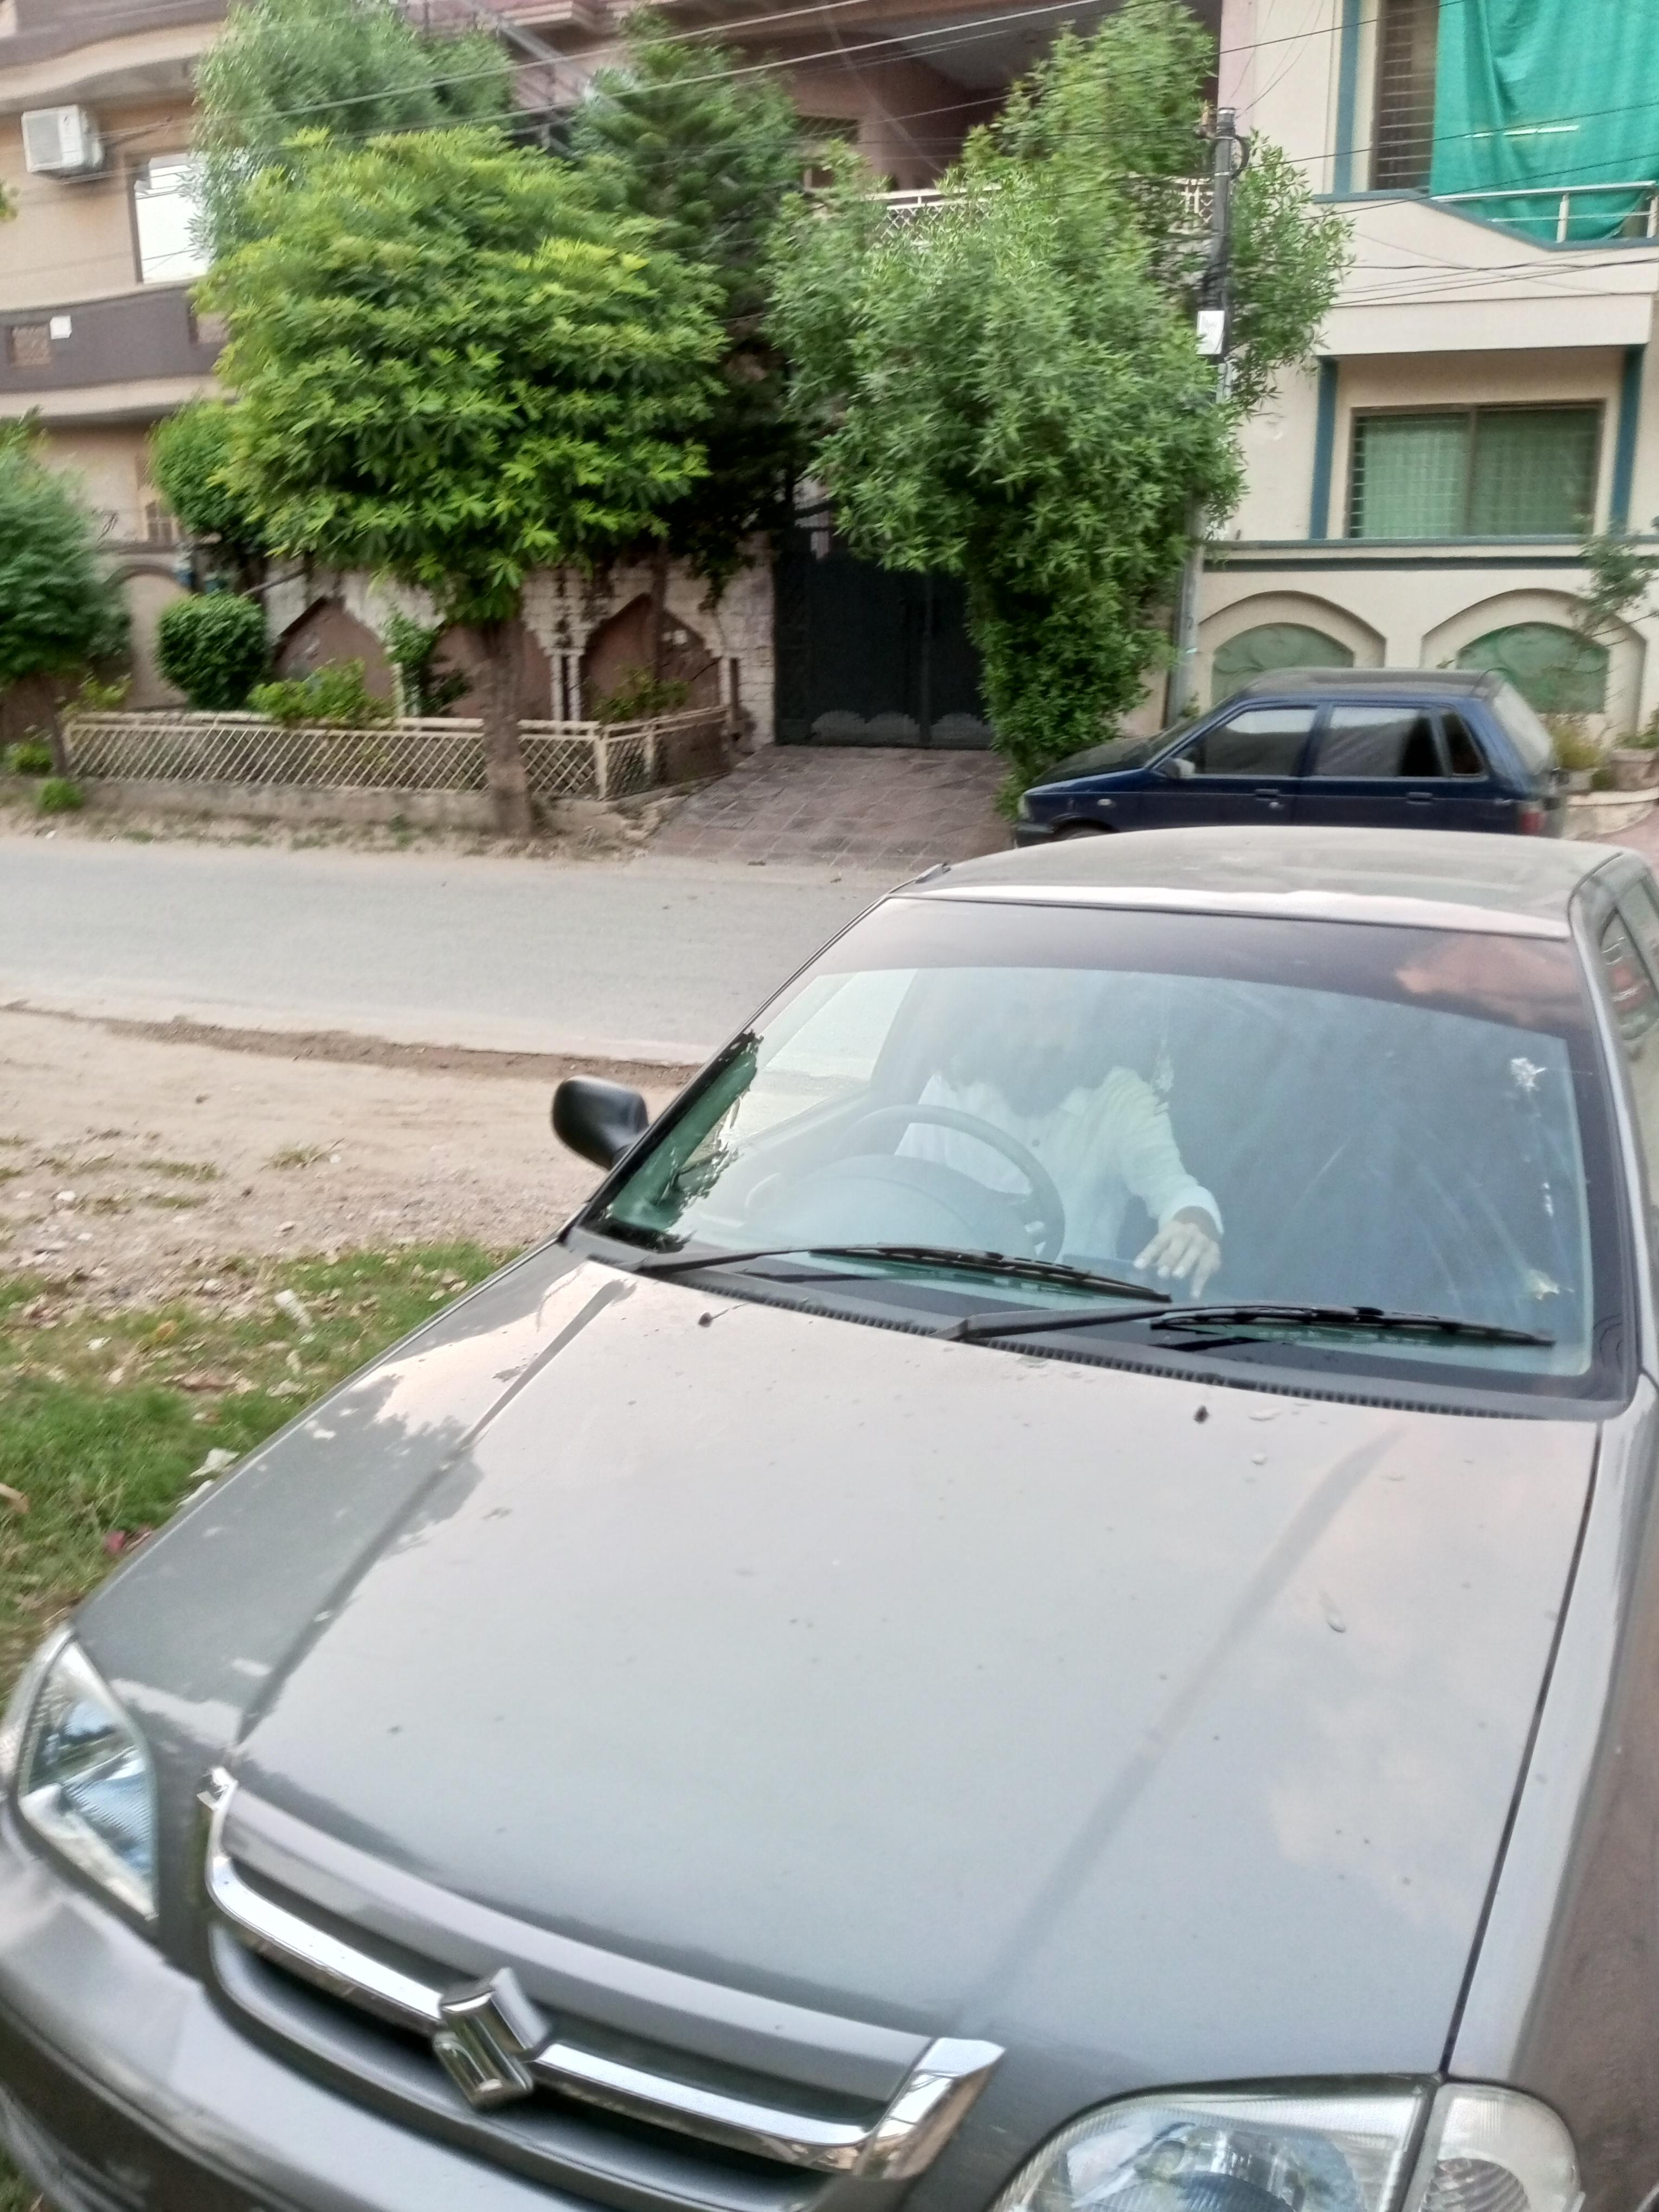windshield: (575, 888, 1649, 1393)
